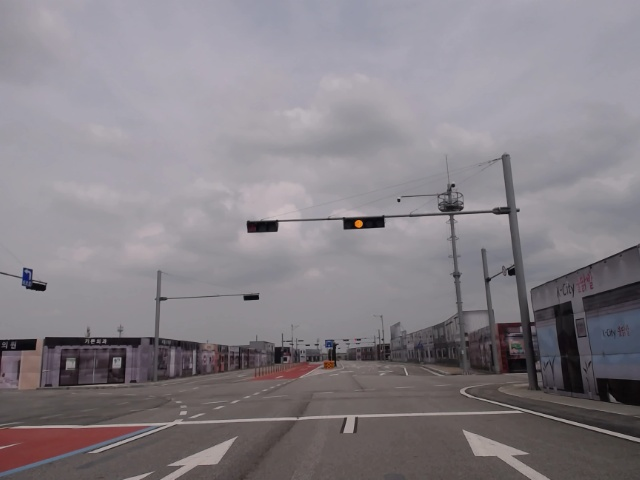orange_4: (341, 215, 386, 230)
